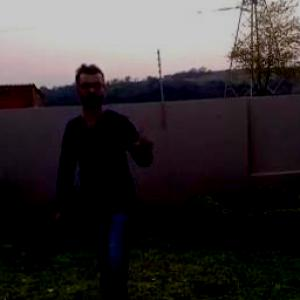land_hand: (125, 114, 157, 163)
